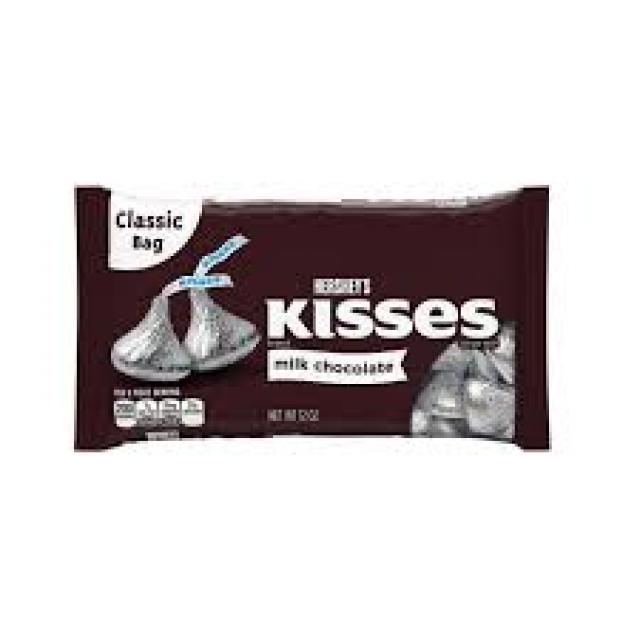kisses: (106, 288, 194, 378), (185, 286, 259, 363)
